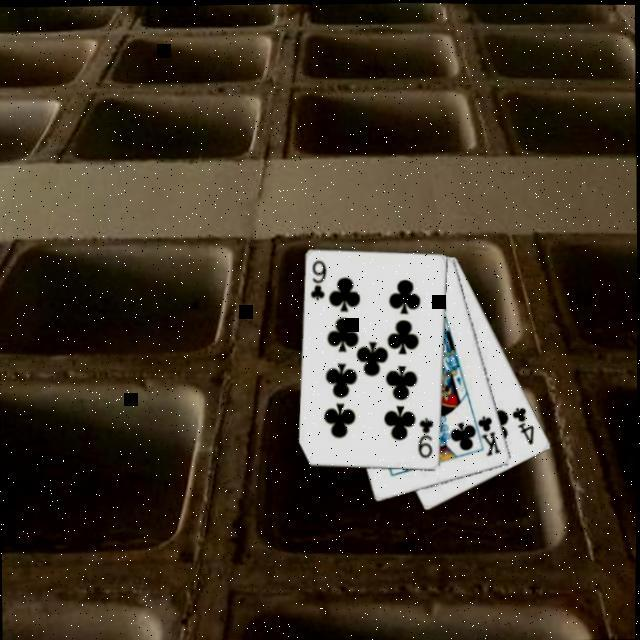4C: (510, 403, 539, 448)
9C: (308, 257, 331, 304), (416, 414, 438, 461)
KC: (470, 410, 505, 459)
